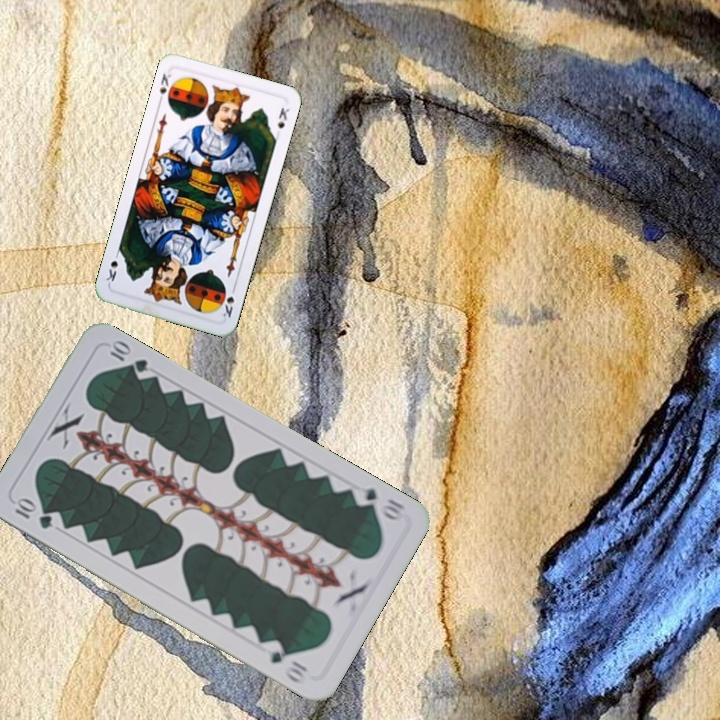G10: (349, 484, 407, 523), (10, 495, 55, 532)
SK: (218, 281, 238, 320), (154, 69, 174, 106)
